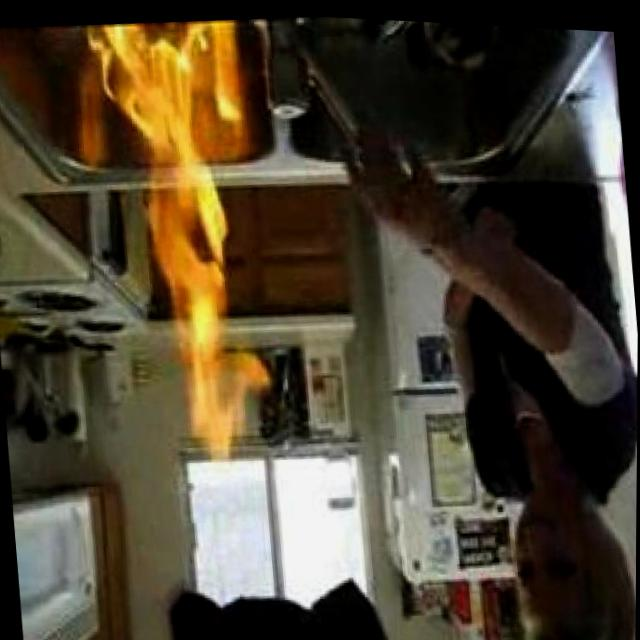Fire: (103, 10, 274, 455)
